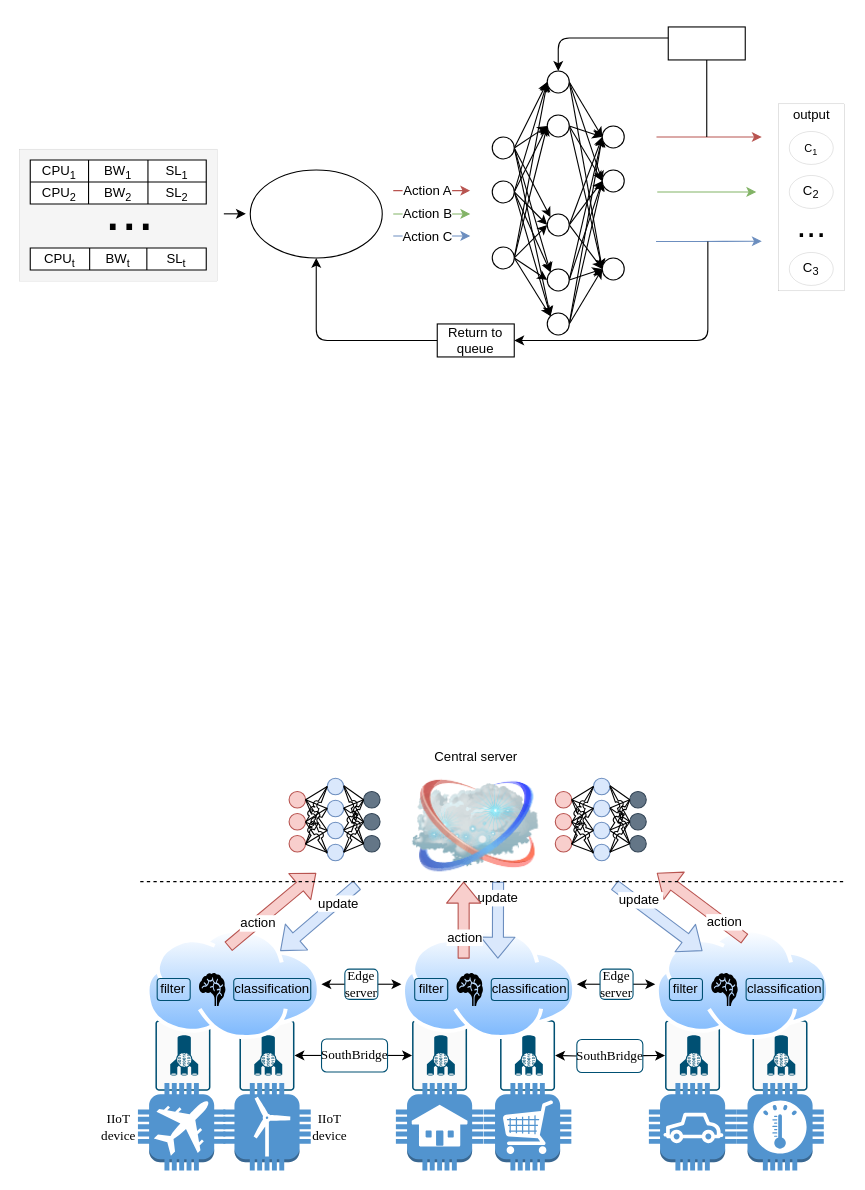
This 865x1190 diagram has some shape labels left out. Here are the shapes that lost their labels. From the top down, the centre of each, then its label:
the point at 706,43: Calculate threshold
the point at 315,213: Adaptive scheme
